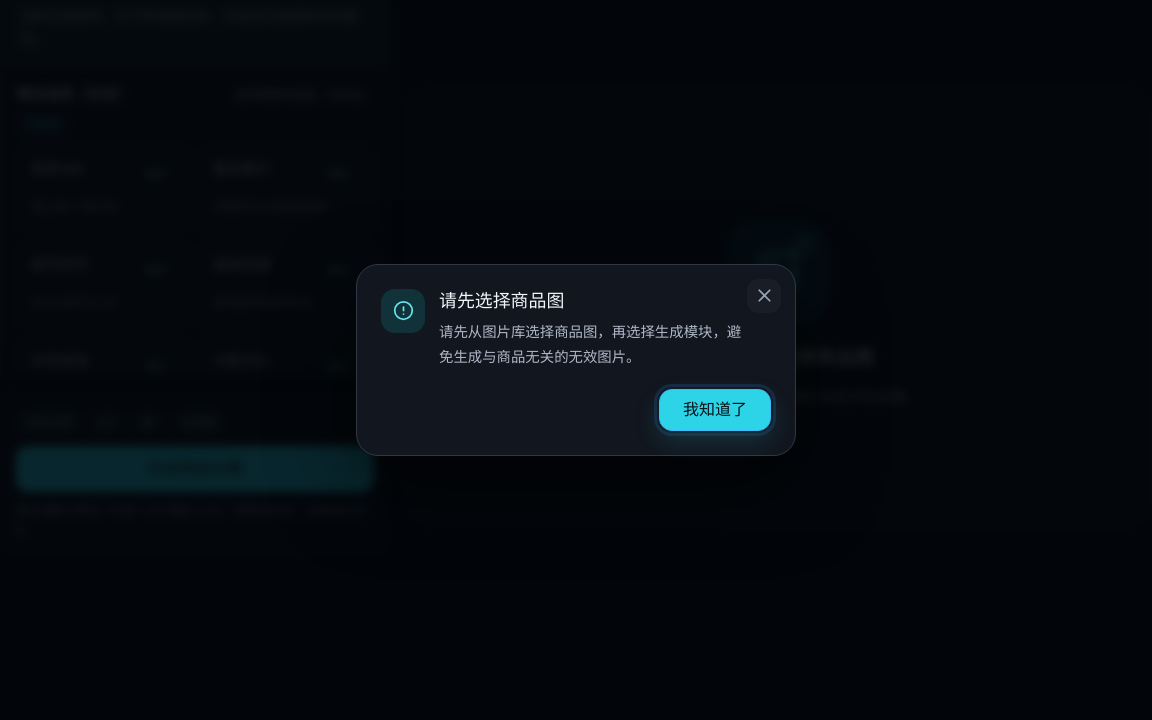
Workspace › asks for a product image before selecting main image modules
Earlier steps of the test are not shown.
(page scrolled)
Check: the dialog "请先选择商品图" is shown, box [356,264,796,456]
Click the button "我知道了": coordinates (715, 410) [659,389,771,431]
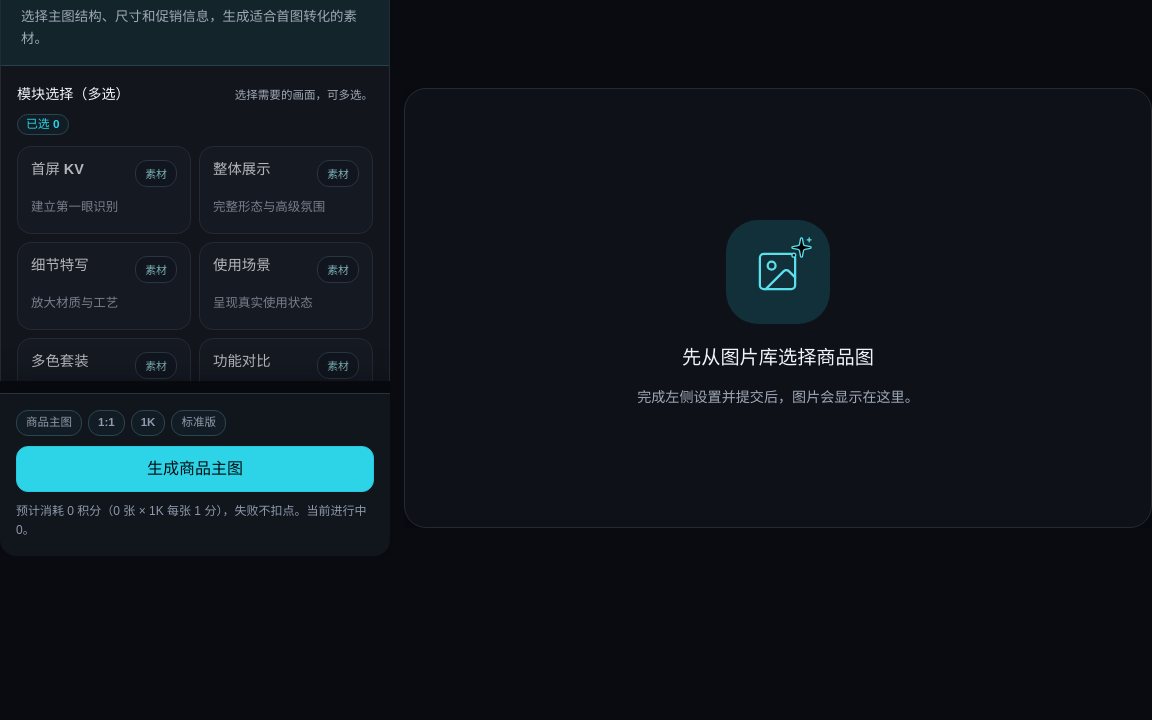
Click the button with aria-label "添加素材": coordinates (156, 174) [135,160,177,187]
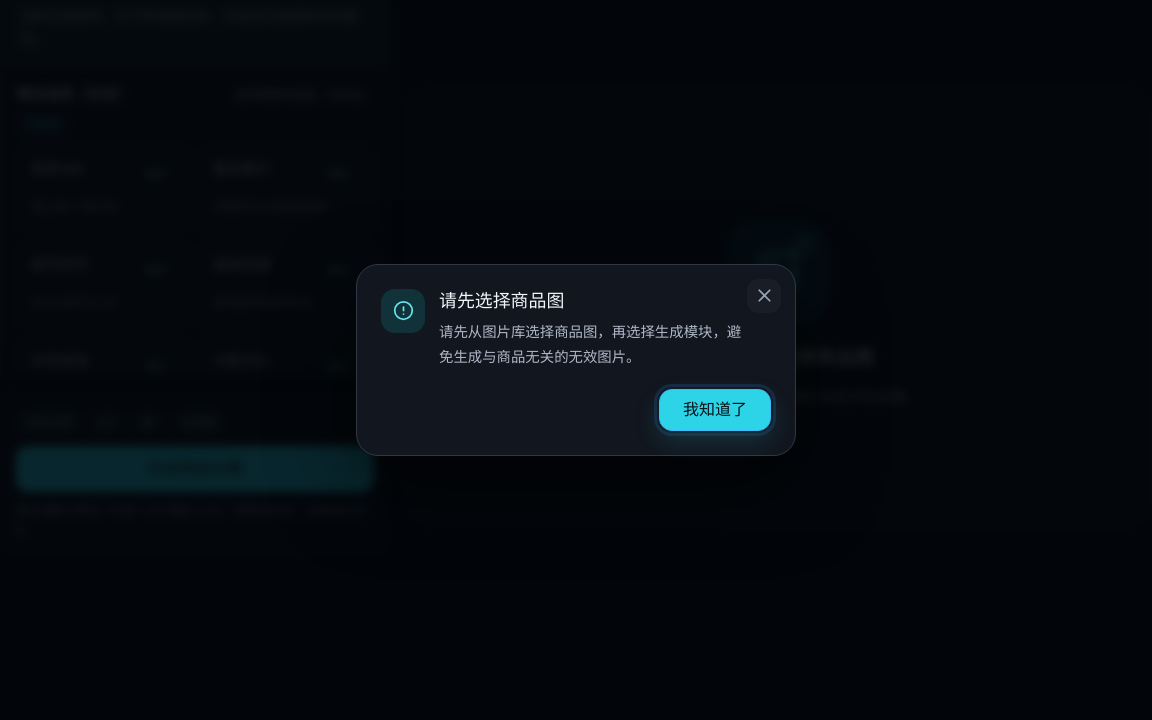
Check: the dialog "请先选择商品图" is shown, box [356,264,796,456]
